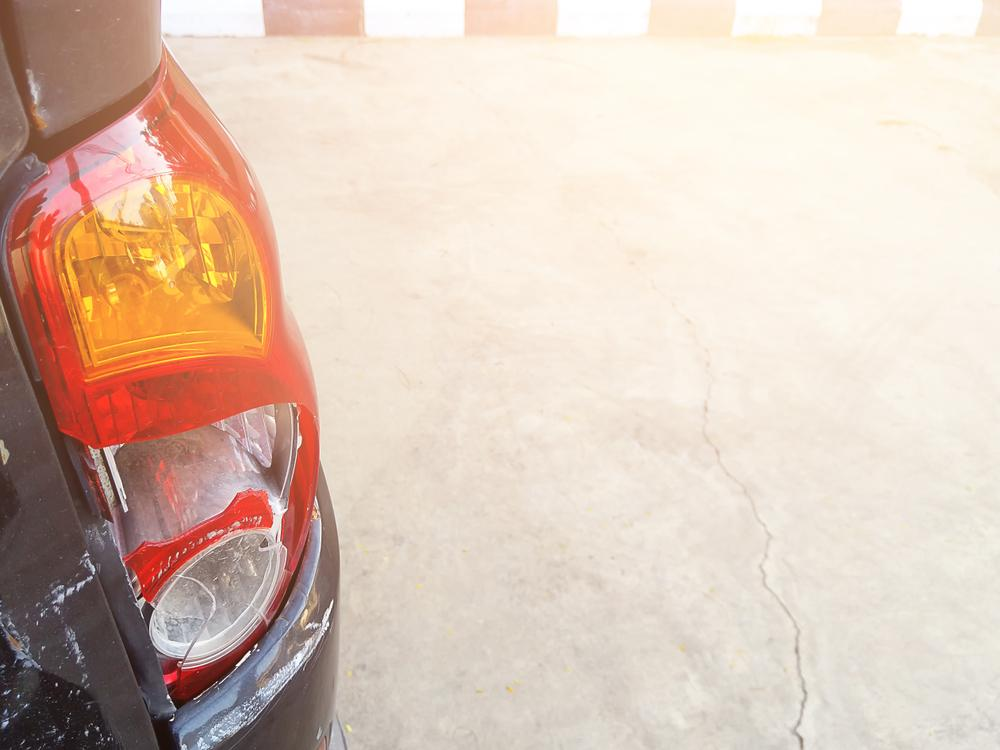lamp broken: (2, 44, 320, 713)
